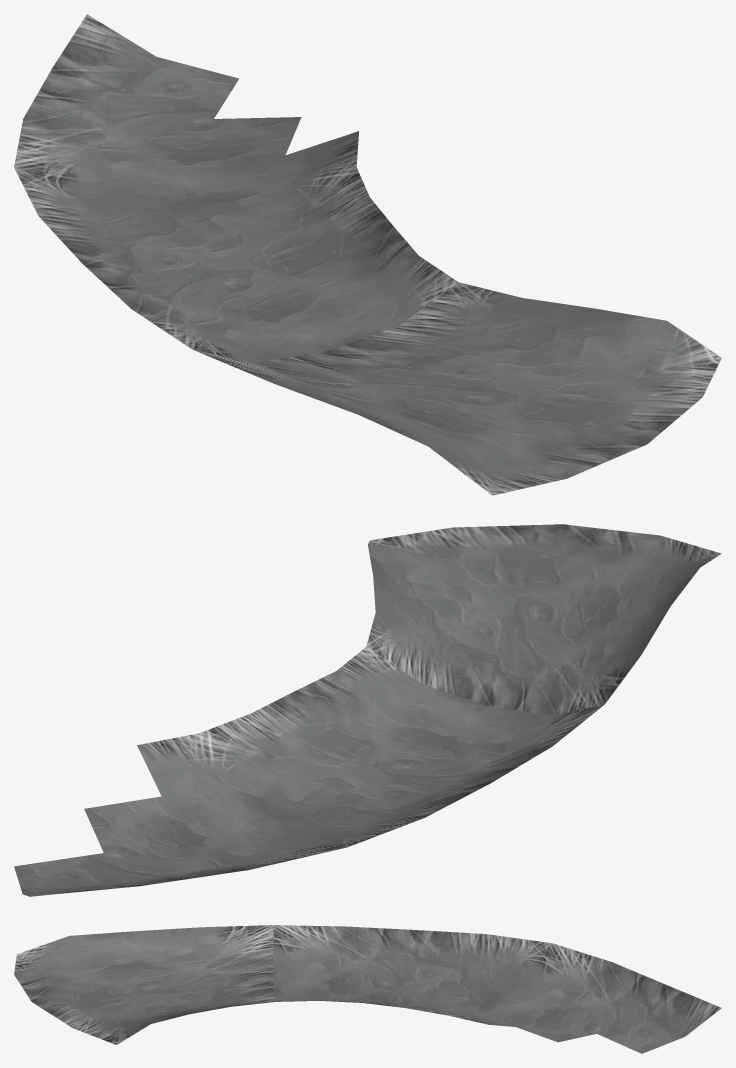
File: SWORDLIGHT20_PS-AREA01_14.fbx
3 renders of one model, top to bottom at view 1: azimuth 30°, elevation 25°; view 2: azimuth 150°, elevation 25°; view 3: azimuth 270°, elevation 25°, orthographic. The views are drawn at different scales.
Visible parts, largest first — view 1: SWORDLIGHT20_PS-AREA01_14; view 2: SWORDLIGHT20_PS-AREA01_14; view 3: SWORDLIGHT20_PS-AREA01_14.
Boxes of the visible parts, x1,y1,x2,y2 form: SWORDLIGHT20_PS-AREA01_14: [14, 14, 721, 495]; SWORDLIGHT20_PS-AREA01_14: [14, 524, 721, 896]; SWORDLIGHT20_PS-AREA01_14: [14, 925, 721, 1053].
Bounding box in the file's own units: 69259 × 9464 × 179365.
2 materials, 2 textured.
